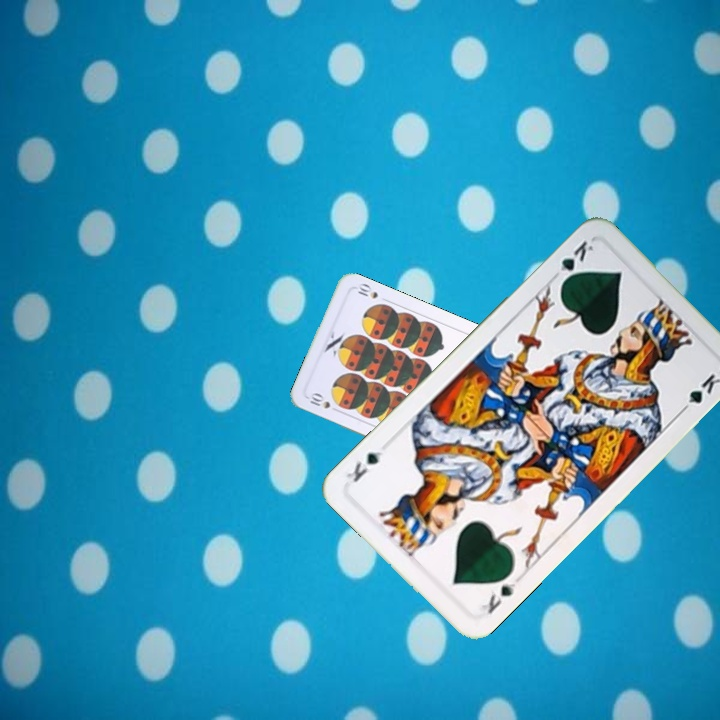GK: (548, 237, 597, 288), (474, 575, 519, 617)
S10: (306, 389, 342, 415)
